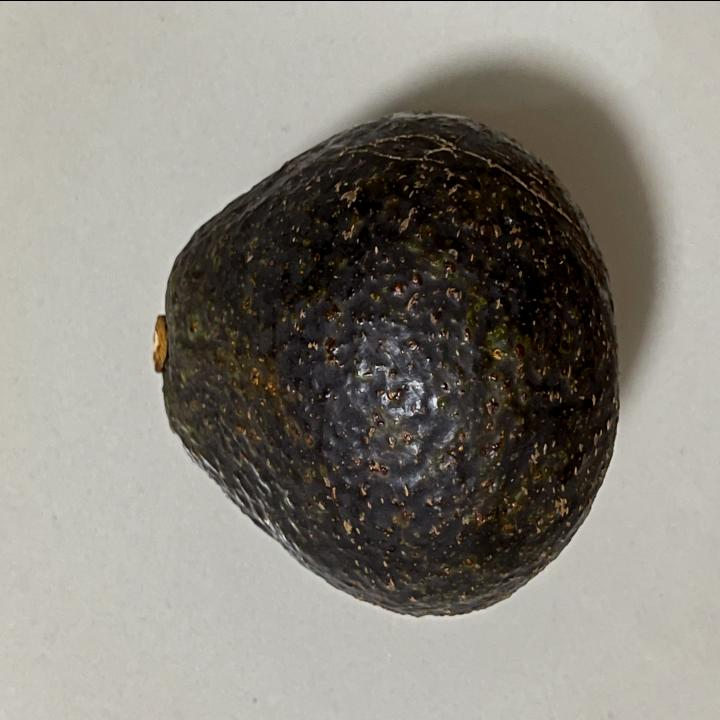Level1: (136, 105, 634, 633)
